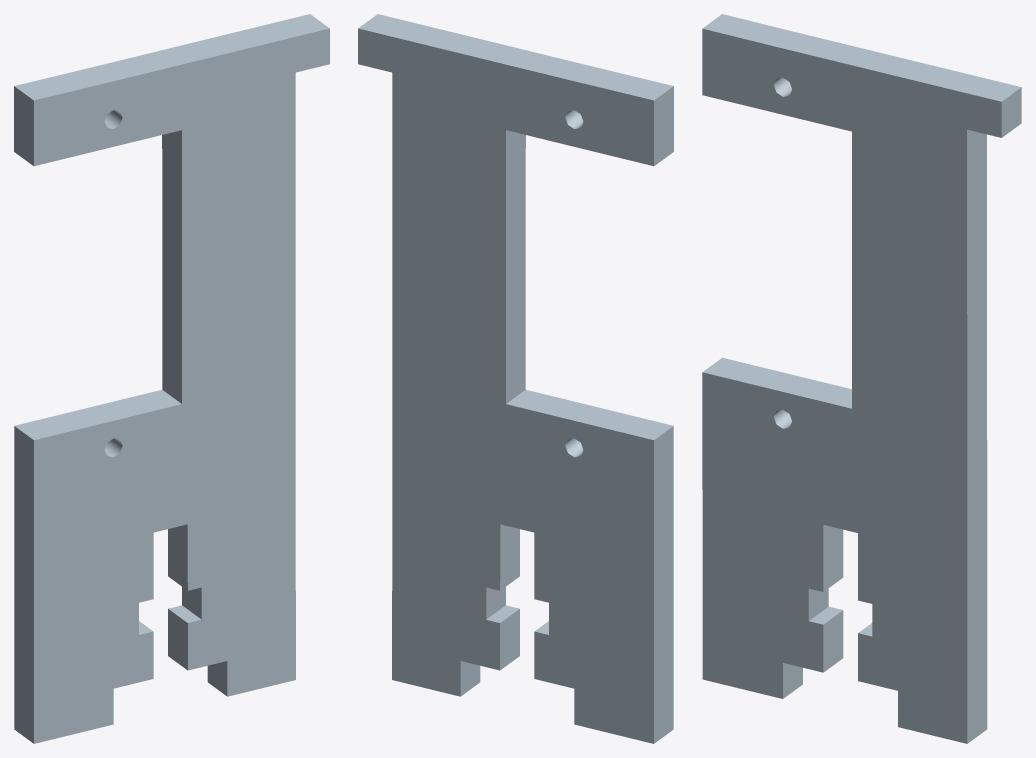
The model's file is prt0013.obj.
3 views of the same model, side by side, from view 1: azimuth 30°, elevation 25°; view 2: azimuth 150°, elevation 25°; view 3: azimuth 330°, elevation 25° (orthographic).
Visible parts, largest first — view 1: 1; view 2: 1; view 3: 1.
Boxes of the visible parts, bbox=[...] form: 1: bbox=[14, 14, 329, 743]; 1: bbox=[358, 14, 673, 743]; 1: bbox=[702, 14, 1021, 743].
Bounding box in the file's own units: 25.99 × 54 × 3.
